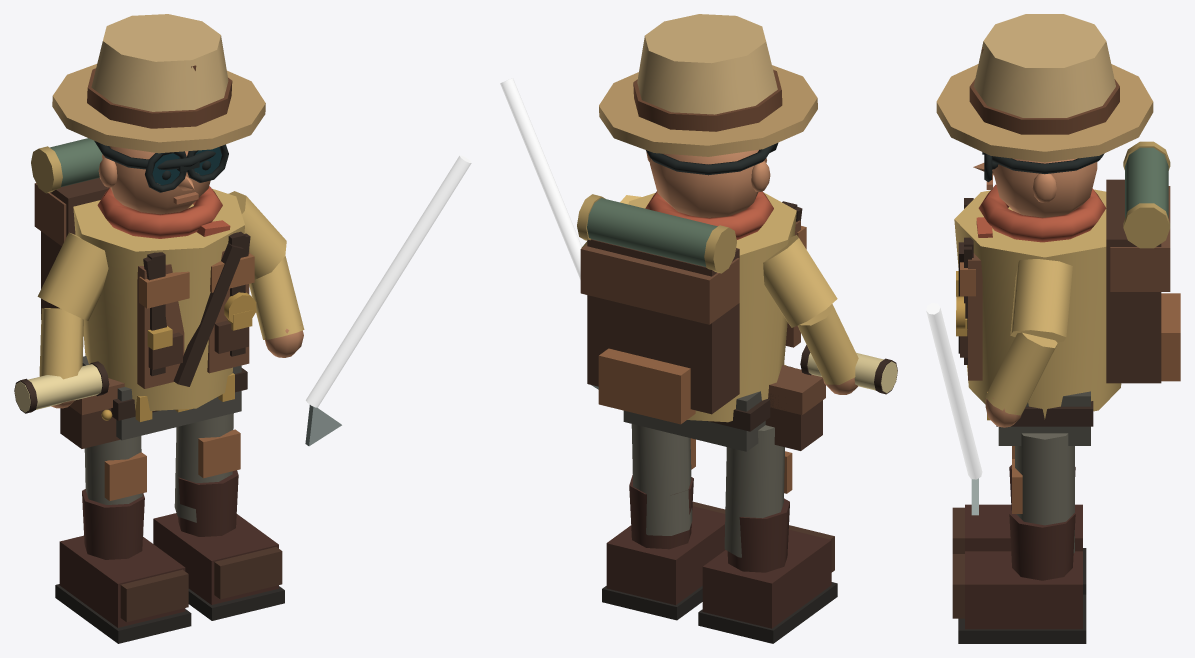
File: asset.glb
The picture shows the model from 3 angles, left to right: view 1: azimuth 30°, elevation 25°; view 2: azimuth 150°, elevation 25°; view 3: azimuth 270°, elevation 25°; orthographic projection. The views are drawn at different scales.
Visible parts, largest first — view 1: Explorer Torso, Hat Crown, Hat Brim, Left Boot Foot, Right Boot Foot, Trowel Handle, Left Upper Sleeve, Left Boot Shaft, Scarf Collar, Right Boot Shaft, Right Forearm Sleeve, Left Forearm Sleeve (+31 smaller); view 2: Hat Crown, Backpack Body, Explorer Torso, Hat Brim, Backpack Flap, Left Boot Foot, Right Boot Foot, Right Trouser Leg, Backpack Lower Pocket, Rolled Sleeping Mat, Left Trouser Leg, Head (+16 smaller); view 3: Explorer Torso, Hat Crown, Hat Brim, Right Boot Foot, Backpack Body, Right Trouser Leg, Right Upper Sleeve, Right Boot Shaft, Head, Scarf Collar, Right Forearm Sleeve, Backpack Flap (+18 smaller).
Part boxes in pixels (left/top/right/bottom): Explorer Torso: left=73, top=188, right=244, bottom=410; Hat Crown: left=91, top=14, right=228, bottom=111; Hat Brim: left=52, top=64, right=265, bottom=153; Left Boot Foot: left=59, top=535, right=185, bottom=627; Right Boot Foot: left=153, top=513, right=278, bottom=604; Trowel Handle: left=306, top=155, right=471, bottom=407; Left Upper Sleeve: left=37, top=232, right=108, bottom=320; Left Boot Shaft: left=82, top=489, right=144, bottom=559; Scarf Collar: left=97, top=186, right=222, bottom=238; Right Boot Shaft: left=178, top=470, right=238, bottom=536; Right Forearm Sleeve: left=249, top=256, right=304, bottom=339; Left Forearm Sleeve: left=39, top=308, right=83, bottom=379; Hat Crown: left=637, top=14, right=777, bottom=114; Backpack Body: left=587, top=239, right=739, bottom=414; Explorer Torso: left=628, top=192, right=796, bottom=422; Hat Brim: left=599, top=65, right=817, bottom=156; Backpack Flap: left=580, top=244, right=739, bottom=324; Left Boot Foot: left=702, top=529, right=831, bottom=628; Right Boot Foot: left=606, top=506, right=725, bottom=605; Right Trouser Leg: left=631, top=424, right=692, bottom=535; Backpack Lower Pocket: left=598, top=348, right=695, bottom=424; Rolled Sleeping Mat: left=587, top=198, right=717, bottom=266; Left Trouser Leg: left=724, top=425, right=784, bottom=557; Head: left=650, top=150, right=766, bottom=217; Explorer Torso: left=954, top=189, right=1121, bottom=419; Hat Crown: left=973, top=14, right=1115, bottom=117; Hat Brim: left=936, top=64, right=1153, bottom=162; Right Boot Foot: left=965, top=551, right=1082, bottom=629; Backpack Body: left=1106, top=179, right=1161, bottom=383; Right Trouser Leg: left=1015, top=433, right=1074, bottom=553; Right Upper Sleeve: left=1010, top=259, right=1072, bottom=341; Right Boot Shaft: left=1009, top=511, right=1075, bottom=580; Head: left=993, top=158, right=1097, bottom=217; Scarf Collar: left=978, top=184, right=1106, bottom=242; Right Forearm Sleeve: left=985, top=332, right=1057, bottom=415; Backpack Flap: left=1110, top=186, right=1170, bottom=291.
Size of the model in its own units: 3 by 3.86 by 1.57.
